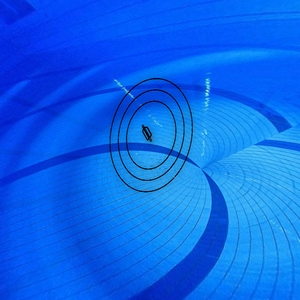circle: (103, 74, 197, 196)
submarine: (137, 122, 162, 145)
